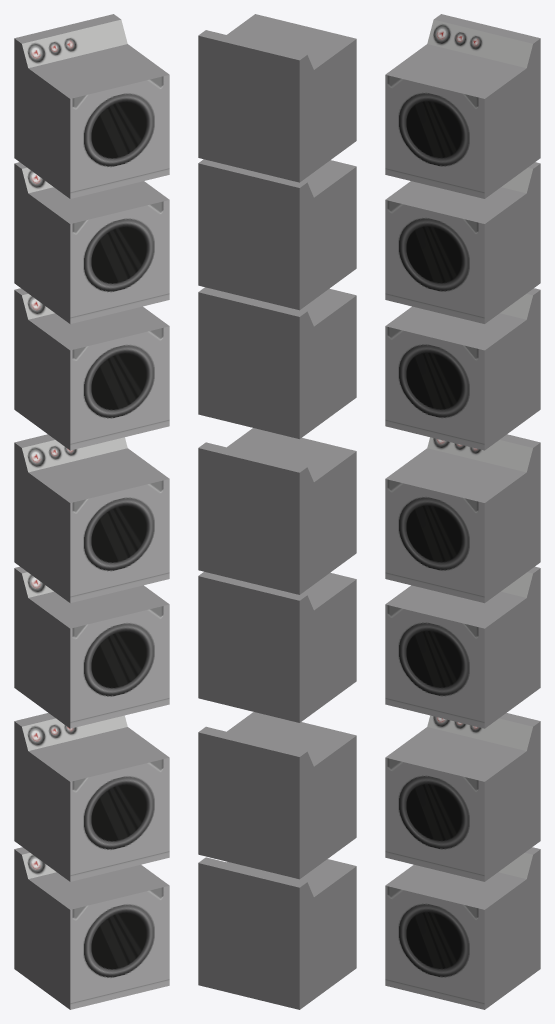
The model's file is Dryers.fbx.
The picture shows the model from 3 angles, left to right: view 1: azimuth 30°, elevation 25°; view 2: azimuth 150°, elevation 25°; view 3: azimuth 330°, elevation 25°; orthographic projection. The views are drawn at different scales.
Parts seen in each view (by area): view 1: polySurface1; view 2: polySurface1; view 3: polySurface1.
Boxes of the visible parts, left/top/right/bottom form: polySurface1: left=14, top=14, right=169, bottom=1009; polySurface1: left=198, top=14, right=356, bottom=1009; polySurface1: left=385, top=14, right=540, bottom=1009.
Bounding box in the file's own units: 0.9181 × 8.2 × 0.8943.
